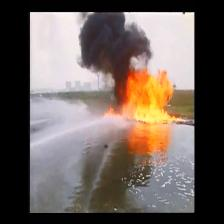fire: (122, 69, 175, 120)
smoke: (78, 14, 148, 68)
